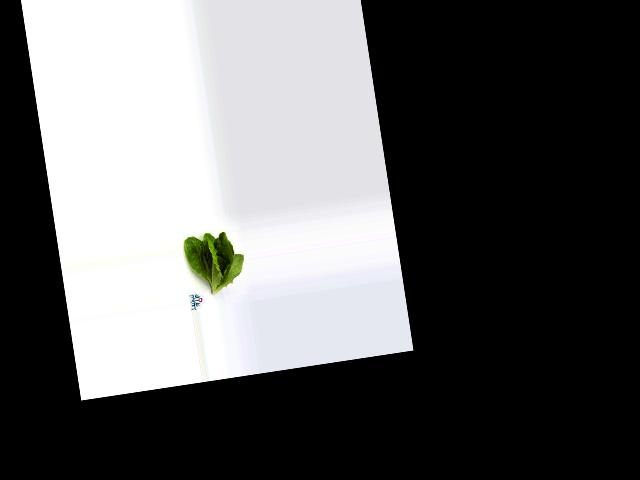lettuce: (183, 226, 249, 297)
